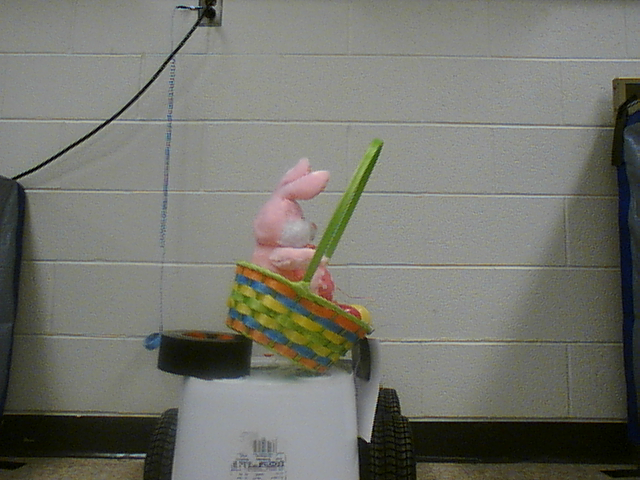bunny: (212, 134, 381, 381)
